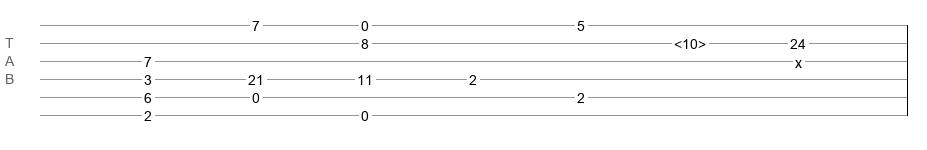0: (252, 90, 260, 100), (361, 108, 369, 118), (361, 18, 369, 28)
11: (357, 72, 373, 82)
2: (144, 108, 152, 118), (469, 72, 477, 82), (577, 90, 585, 100)
21: (248, 72, 264, 82)
24: (790, 36, 806, 46)
3: (144, 72, 152, 82)
5: (577, 18, 585, 28)
6: (144, 90, 152, 100)
7: (144, 54, 152, 64), (252, 18, 260, 28)
8: (361, 36, 369, 46)
harmonic: (674, 36, 706, 46)
x: (795, 55, 802, 63)
